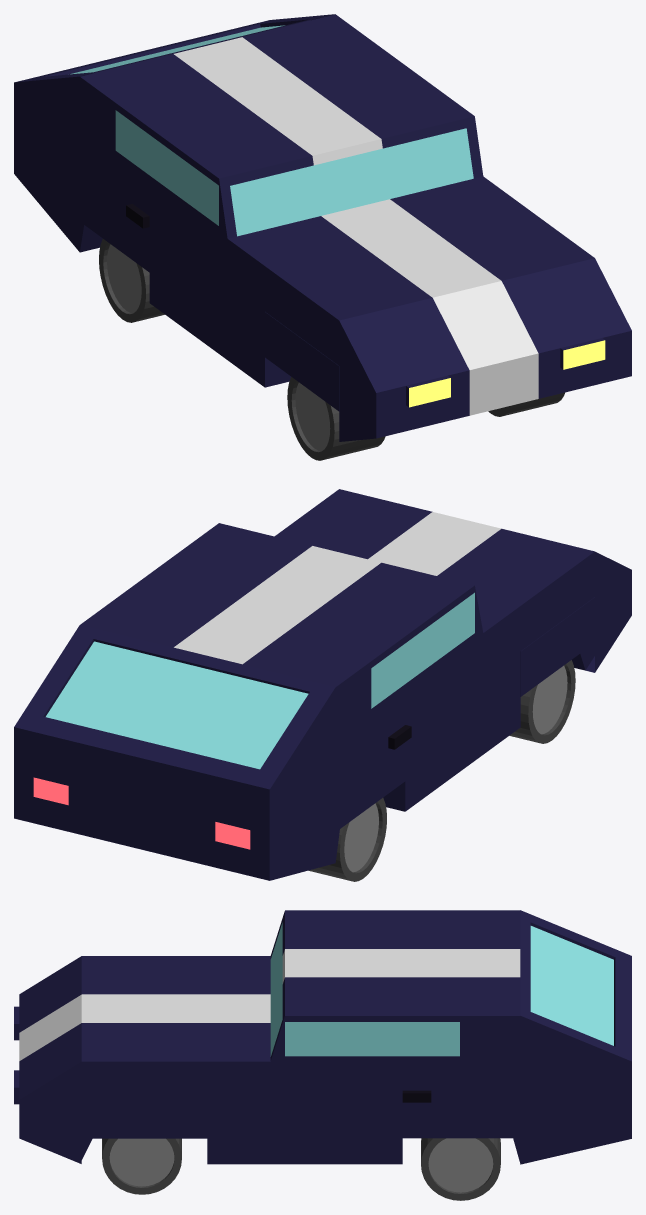
File: JoasCar.fbx
3 renders of one model, top to bottom at view 1: azimuth 30°, elevation 25°; view 2: azimuth 150°, elevation 25°; view 3: azimuth 270°, elevation 25°, orthographic. The views are drawn at different scales.
Visible parts, largest first — view 1: Cube.001, FrontRightWheel, BackRightWheel, FrontLeftWheel; view 2: Cube.001, FrontRightWheel, BackRightWheel; view 3: Cube.001, BackLeftWheel, FrontLeftWheel.
Boxes of the visible parts, box(x1,y1,x2,y2) form: Cube.001: box(14, 14, 631, 441); FrontRightWheel: box(287, 377, 385, 460); BackRightWheel: box(99, 239, 164, 322); FrontLeftWheel: box(488, 392, 565, 416); Cube.001: box(14, 489, 631, 880); FrontRightWheel: box(509, 660, 575, 743); BackRightWheel: box(308, 798, 386, 881); Cube.001: box(14, 910, 631, 1164); BackLeftWheel: box(421, 1138, 500, 1200); FrontLeftWheel: box(102, 1138, 181, 1194).
Bounding box in the file's own units: 210 × 164 × 495.
